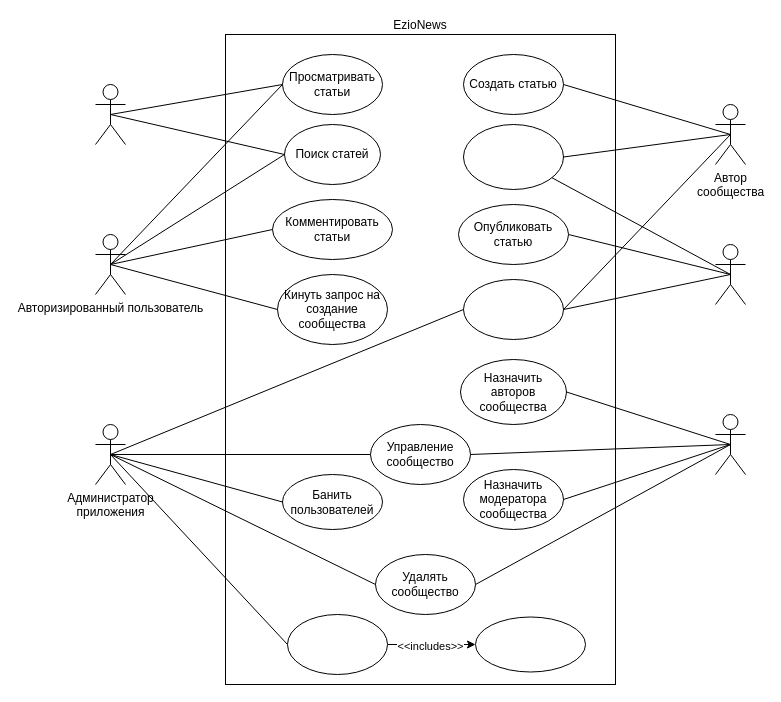
The diagram is 781 pixels wide and 702 high, and some of its shapes have lost their labels. Each missing label, with the centre of its shape:
Владелец сообщества: point 730,444
Модератор сообщества: point 730,274
Назначить владельца сообщества: point 530,644
Неавторизированный пользователь: point 110,114
Редактировать статью: point 513,157
Создать сообщество: point 337,644
Удалить статью: point 513,309
